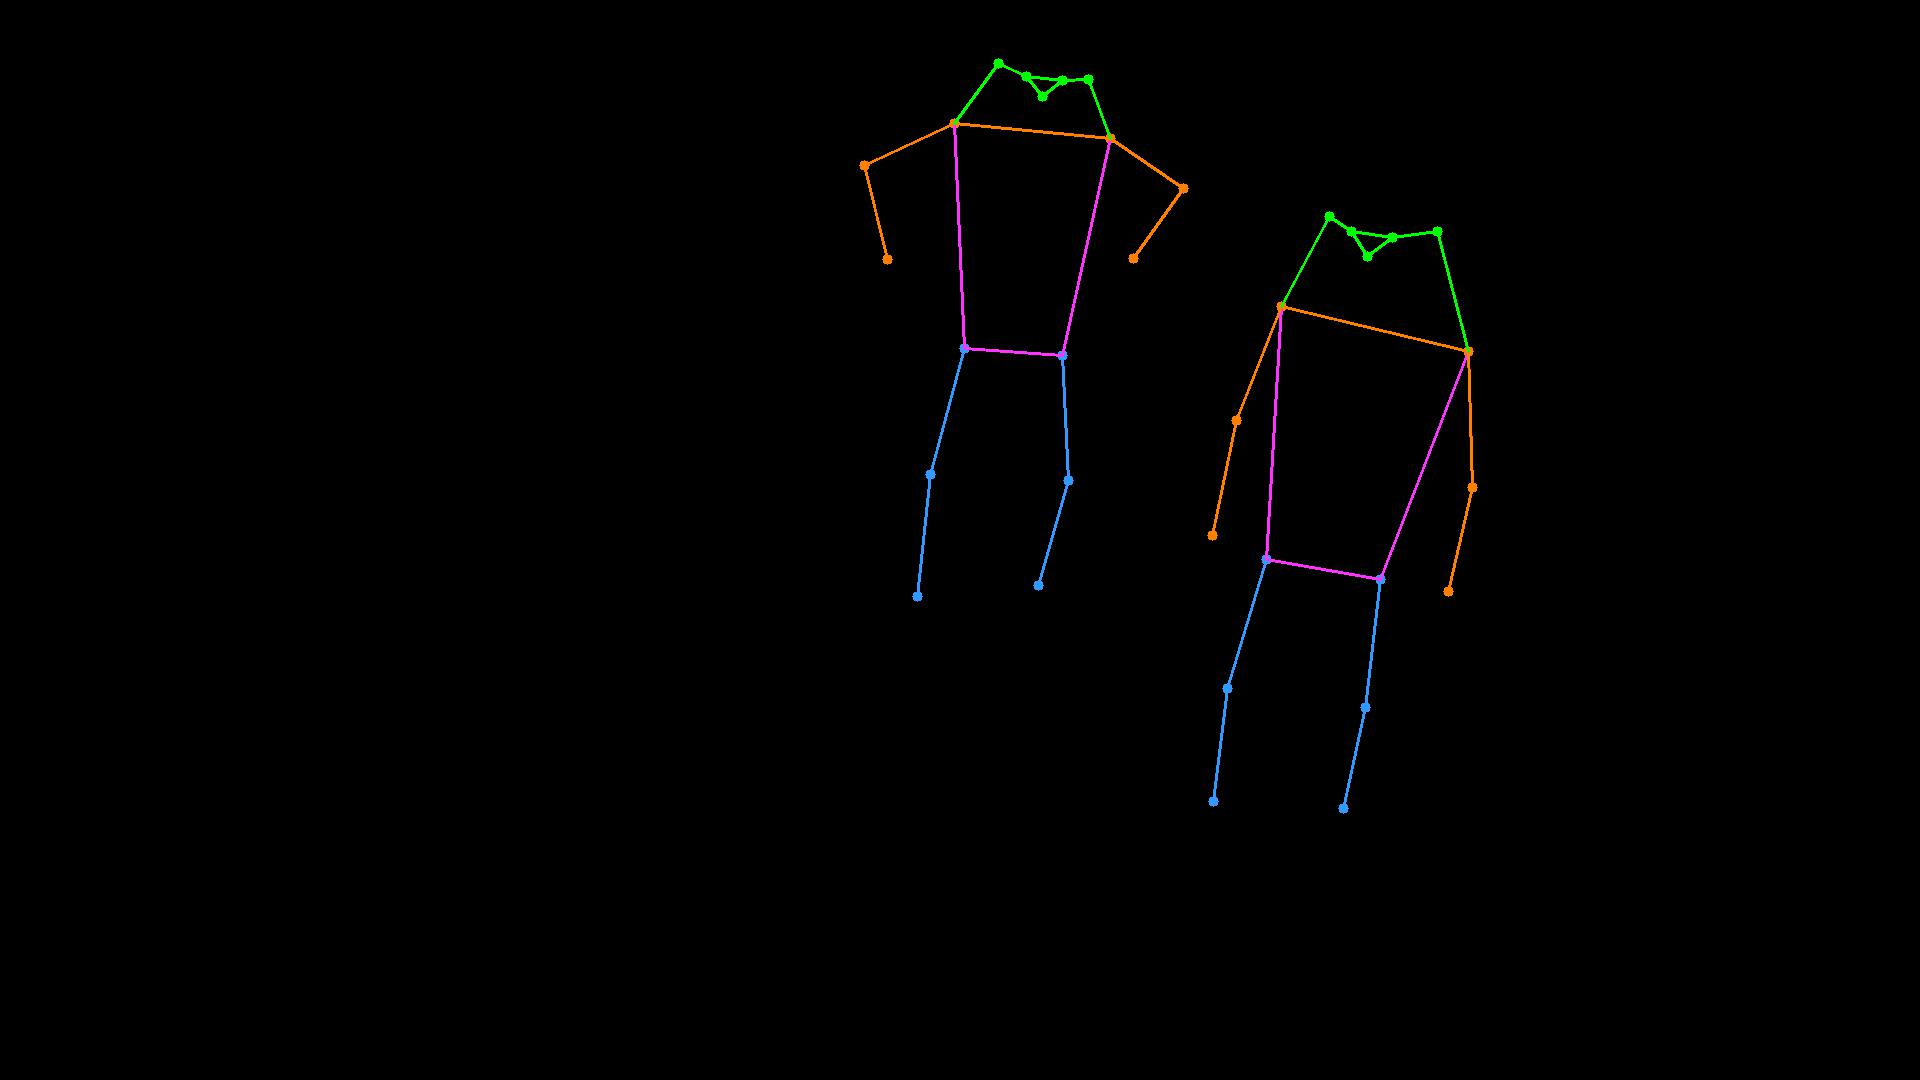normal: (1113, 160, 1516, 860), (783, 38, 1208, 665)
